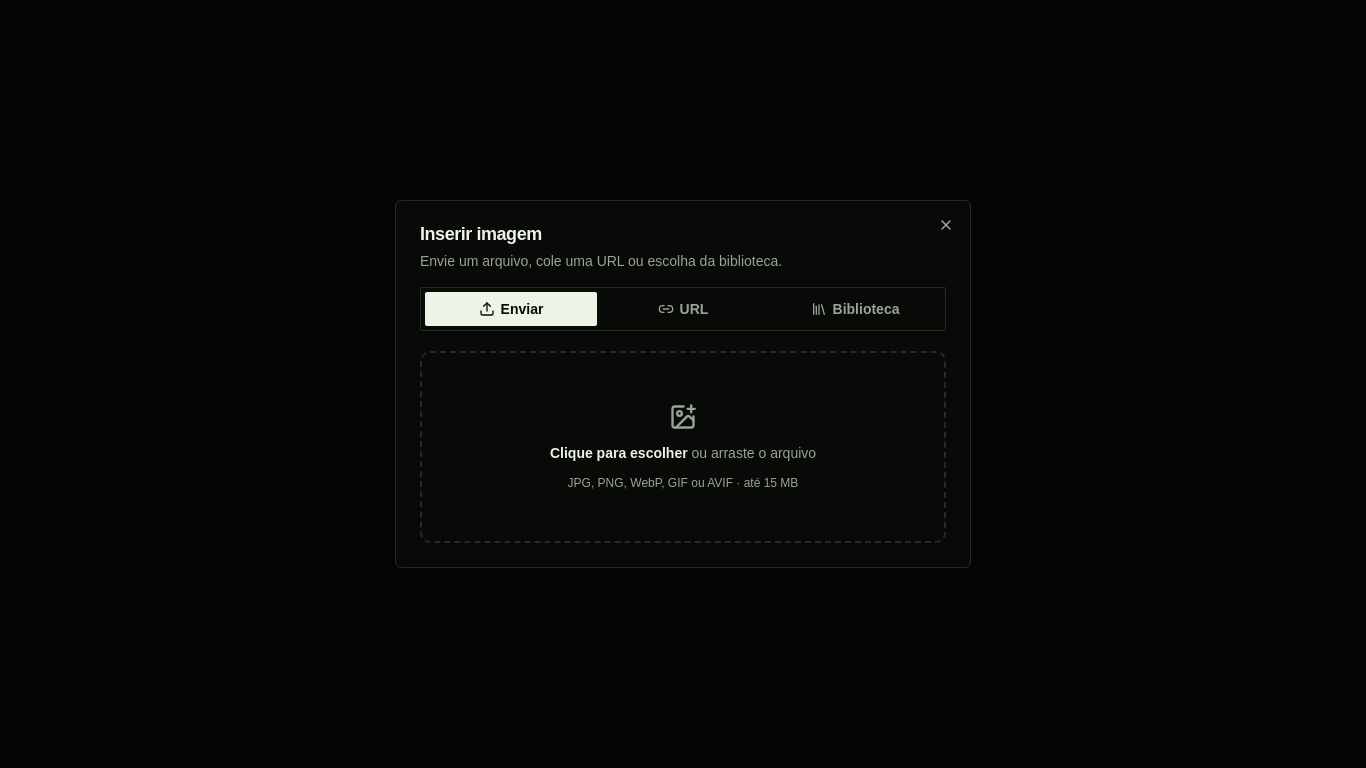
<MediaDialog /> — imagem › por URL: bloqueia esquemas perigosos e pede texto alternativo e legenda
Later steps or results of the test are not shown.
Step 1. Press the mouse on the tab "URL" → (683, 309), box [597,292,769,326]
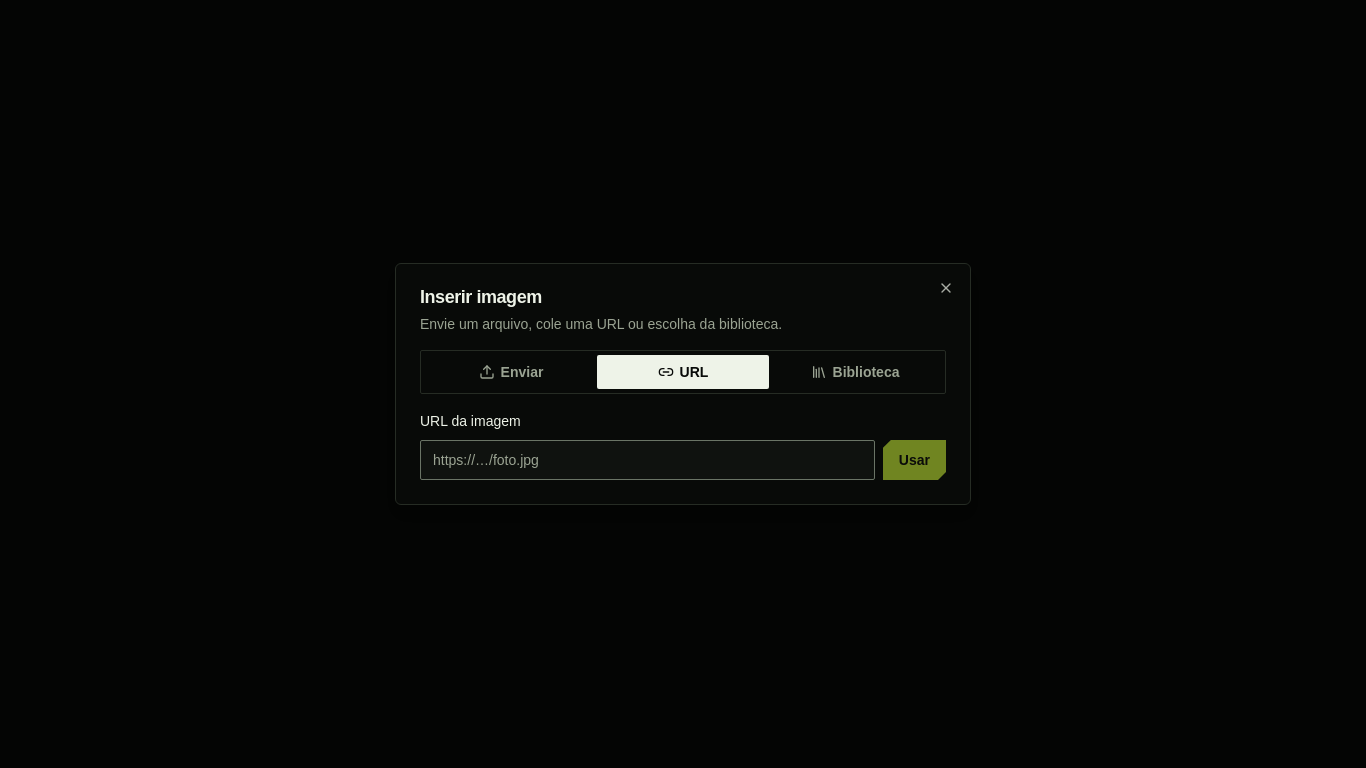
Step 2. Type "javascript:alert(1)" into the field labelled "URL da imagem" → (647, 460), box [420,440,875,480]
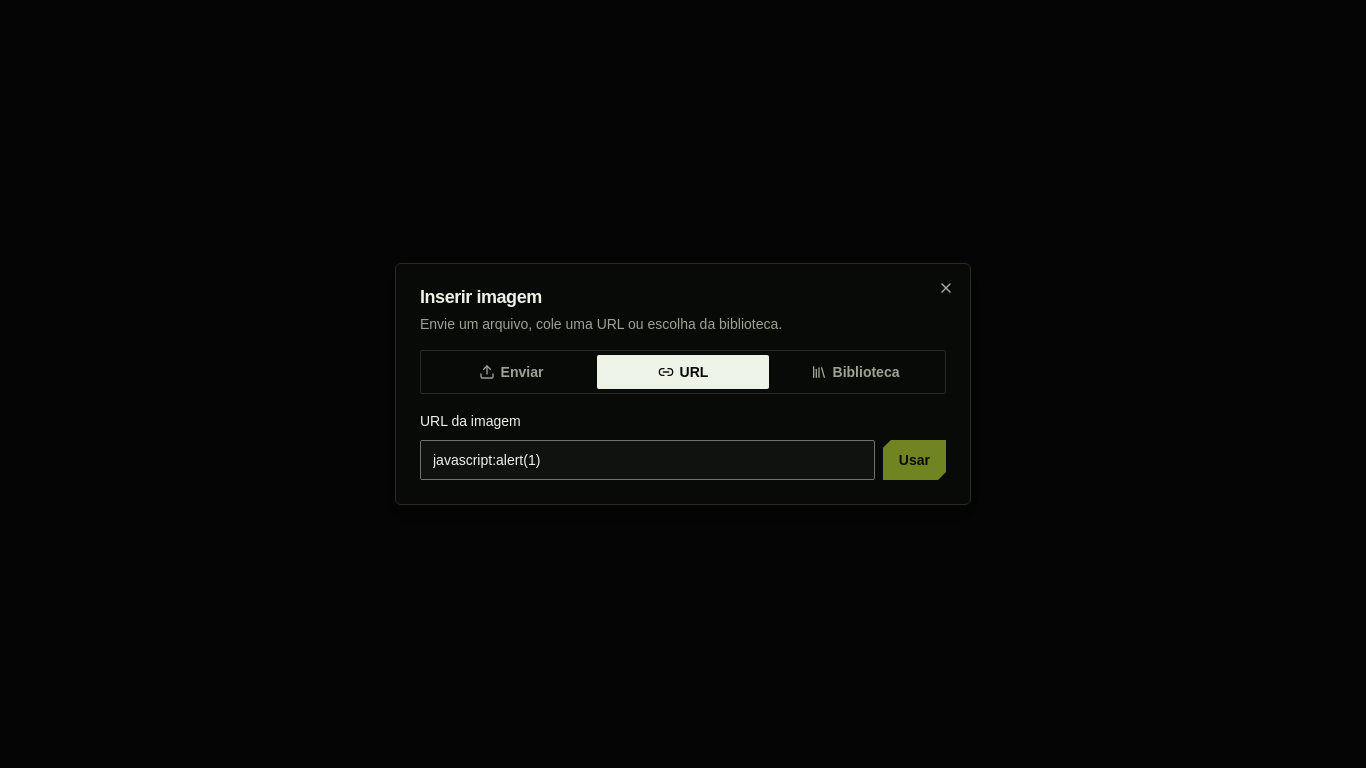
Check: the button "Usar" is disabled, box [883,440,946,480]
Step 3. Replace the text in the field labelled "URL da imagem" with "//evil.example/a.png" → (647, 460), box [420,440,875,480]
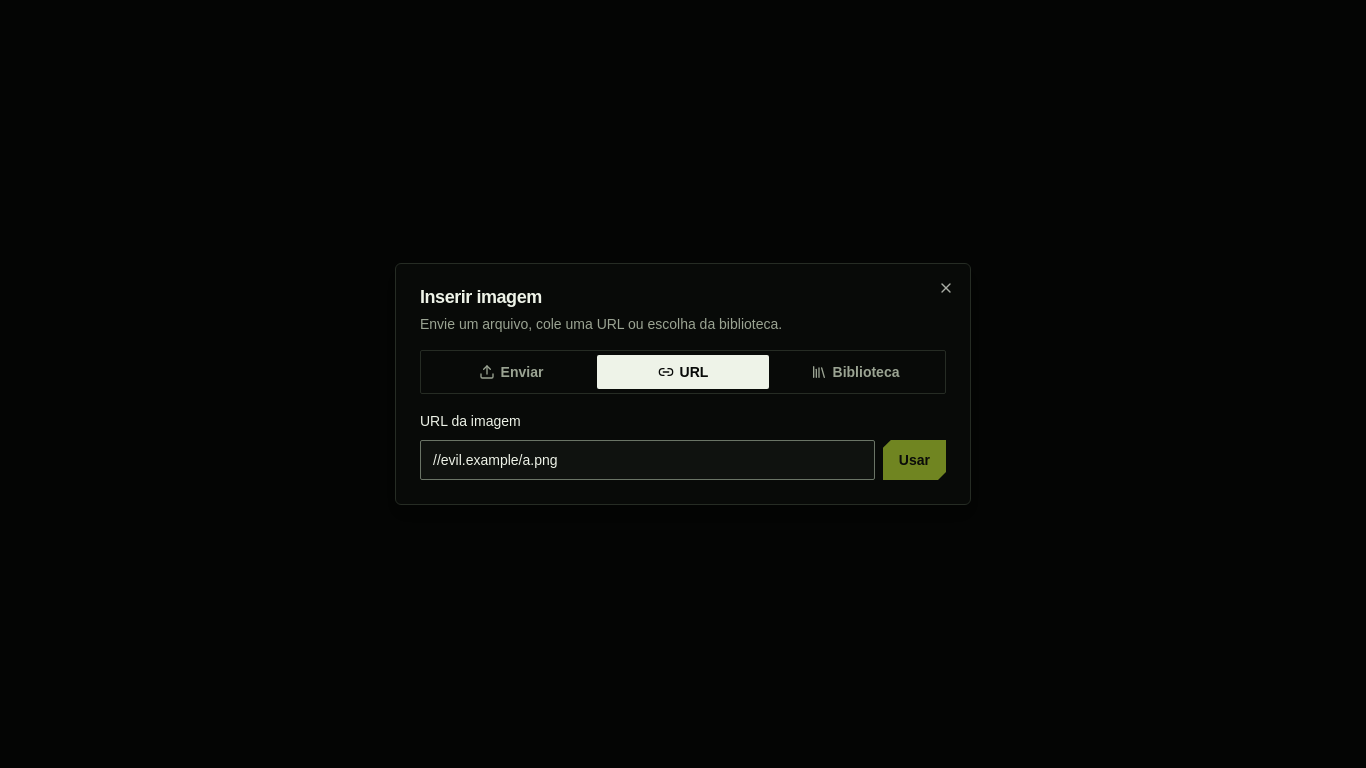
Check: the button "Usar" is disabled, box [883,440,946,480]
